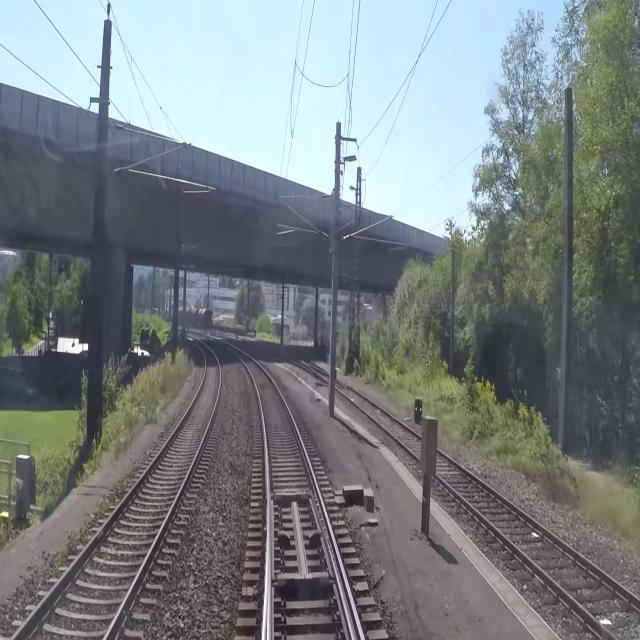rail-track: (15, 344, 218, 639), (437, 453, 640, 639), (238, 352, 360, 639), (335, 380, 420, 453)
